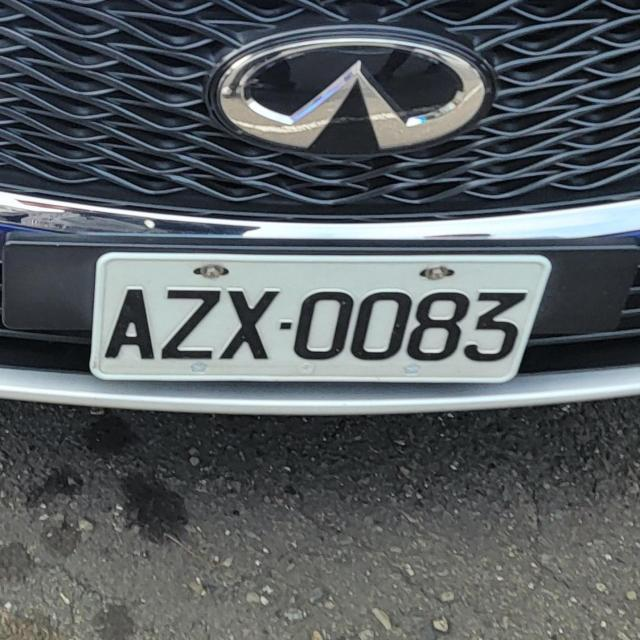W: (92, 241, 552, 392)
